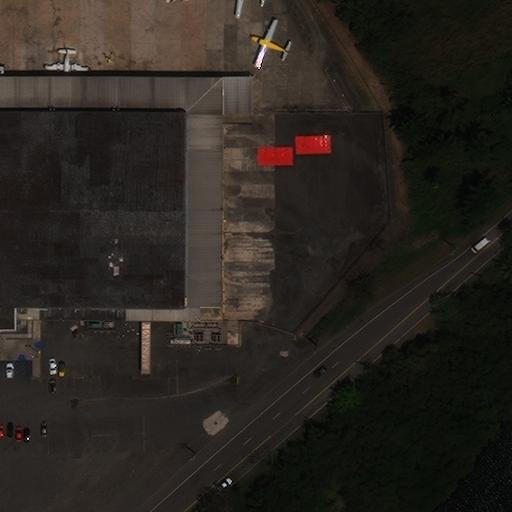Medium Civil Transport: (251, 20, 288, 66), (229, 0, 262, 17)
Small Civil Transport: (45, 48, 89, 79)
